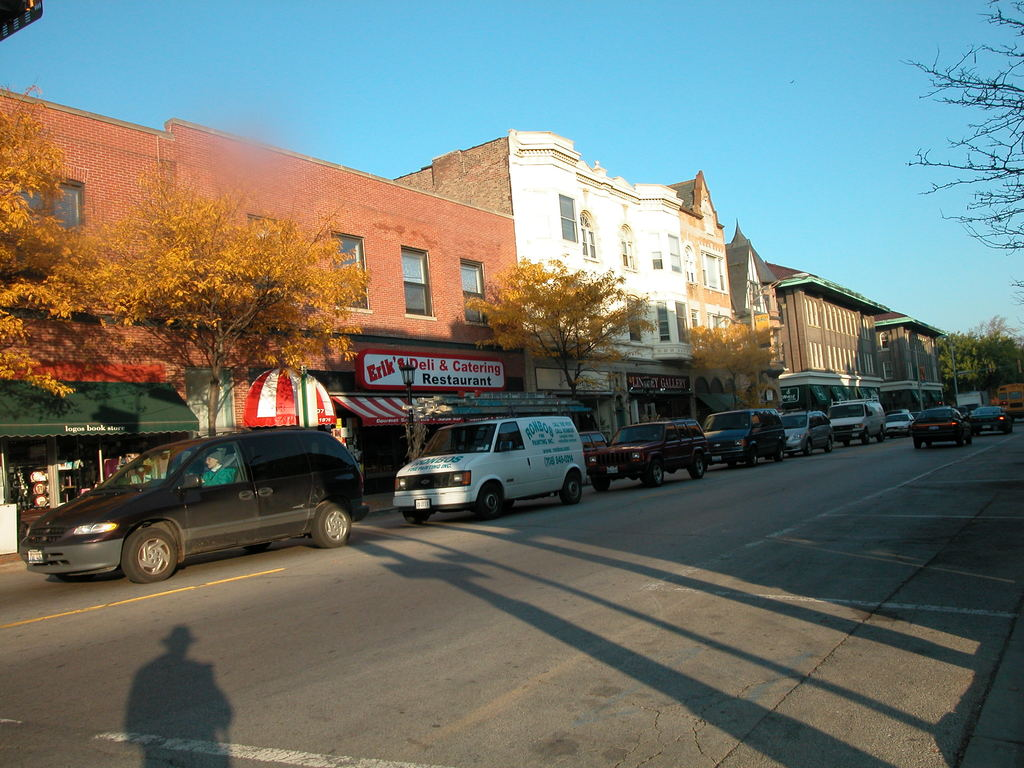Car: (16, 424, 379, 588), (588, 417, 706, 496), (706, 407, 787, 458), (913, 402, 972, 451), (787, 405, 833, 455), (970, 398, 1009, 431), (881, 411, 910, 435)
